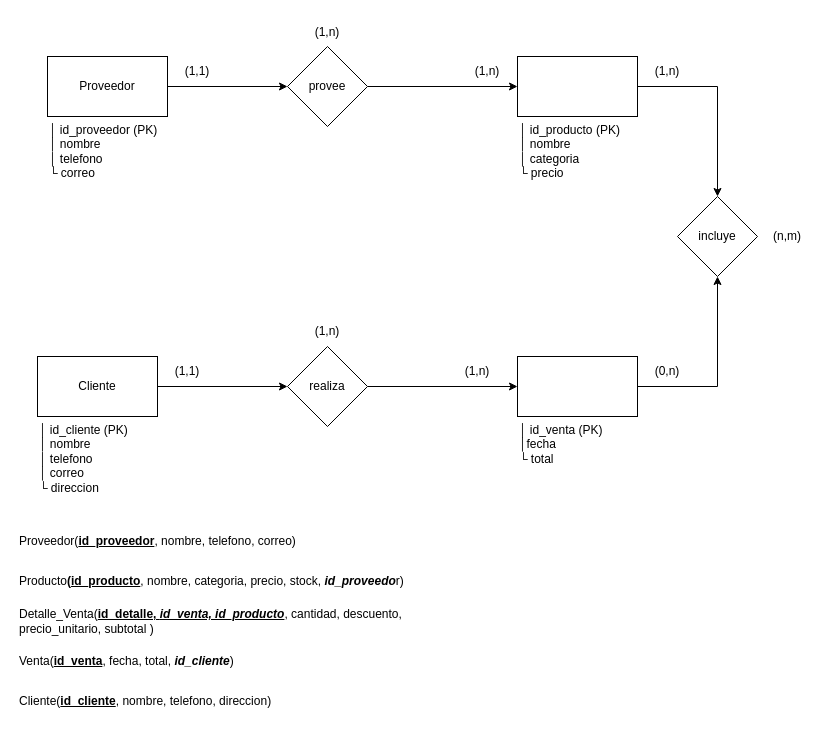
Some shapes in this 834 by 733 pixel diagram are drawn without their labels. The shapes that lost their labels are listed below. From the top down, each one's centre as x and y in pixels, then its label:
At [577,86]: "Producto".
At [577,386]: "Venta".
